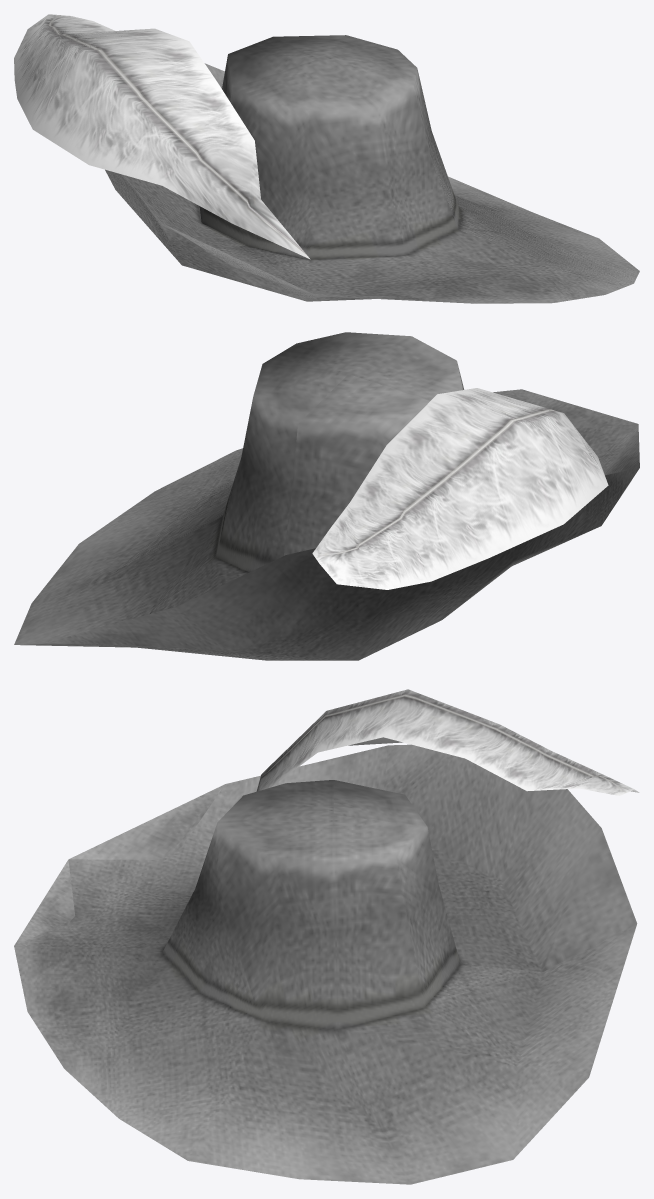
Rendered from shop_tailor_hat_dressHatFeather.fbx.
3 views of the same model, one above another, from view 1: azimuth 30°, elevation 25°; view 2: azimuth 150°, elevation 25°; view 3: azimuth 270°, elevation 25° (orthographic). The views are drawn at different scales.
Visible parts, largest first — view 1: pasted__dresshat, dresshat_feather_bot, dresshat_feather_top; view 2: pasted__dresshat, dresshat_feather_bot, dresshat_feather_top; view 3: pasted__dresshat, dresshat_feather_bot, dresshat_feather_top.
Part boxes in pixels (<box>): pasted__dresshat: <box>105,35,639,303</box>; dresshat_feather_bot: <box>14,14,310,259</box>; dresshat_feather_top: <box>14,16,309,258</box>; pasted__dresshat: <box>14,332,639,660</box>; dresshat_feather_bot: <box>312,388,608,589</box>; dresshat_feather_top: <box>320,395,600,588</box>; pasted__dresshat: <box>14,744,637,1184</box>; dresshat_feather_bot: <box>256,689,639,795</box>; dresshat_feather_top: <box>257,691,636,791</box>.
Size of the model in its own units: 121 by 62.06 by 128.
Materials: 2 (2 with a texture image).
